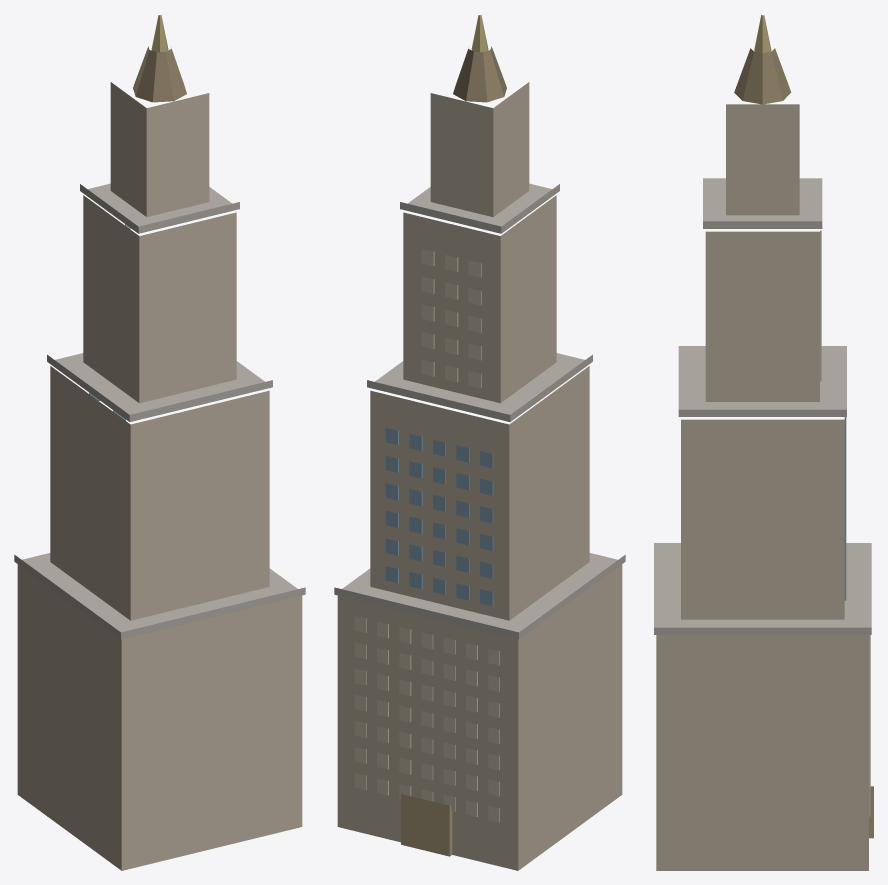
File: tower_setback.glb
The picture shows the model from 3 angles, left to right: view 1: azimuth 30°, elevation 25°; view 2: azimuth 150°, elevation 25°; view 3: azimuth 270°, elevation 25°; orthographic projection.
Parts seen in each view (by area): view 1: Mesh; view 2: Mesh; view 3: Mesh.
Part boxes in pixels (x1,y1,x2,y2): Mesh: (14, 15, 305, 870); Mesh: (334, 15, 625, 870); Mesh: (654, 15, 873, 870).
Size of the model in its own units: 26.6 by 110 by 26.9.
